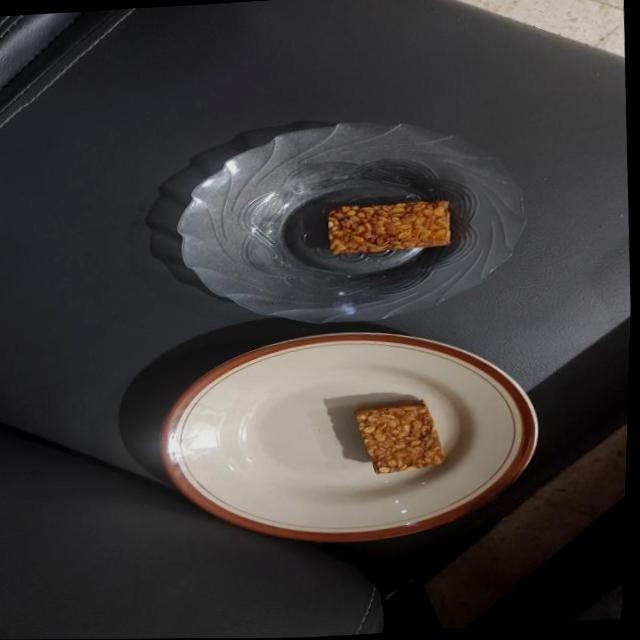tempe_goreng: (328, 200, 451, 254), (355, 400, 444, 473)
